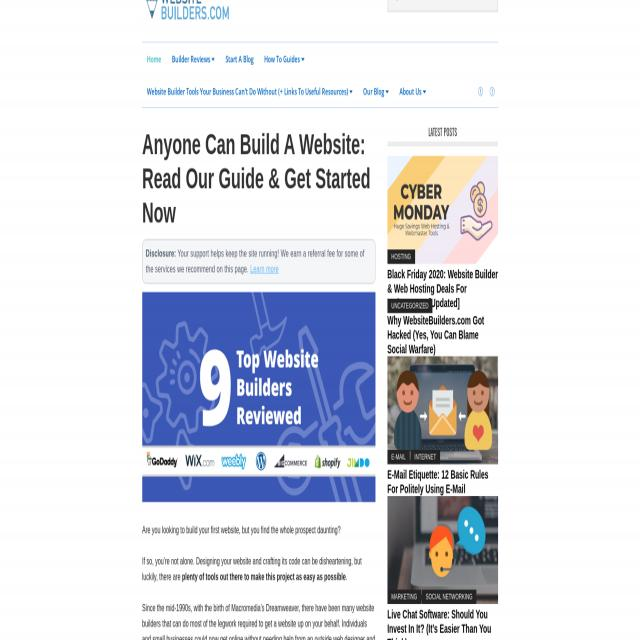button: (142, 292, 376, 502), (387, 156, 498, 264), (387, 356, 498, 464), (387, 505, 498, 595), (478, 87, 483, 96), (490, 87, 494, 96)
field: (387, 0, 498, 14)
